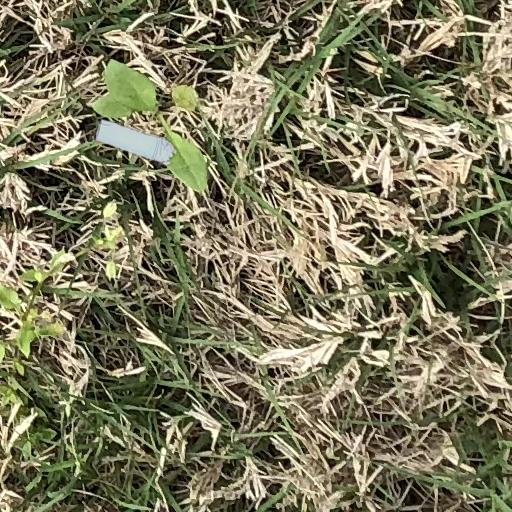smoke: (97, 120, 176, 165)
